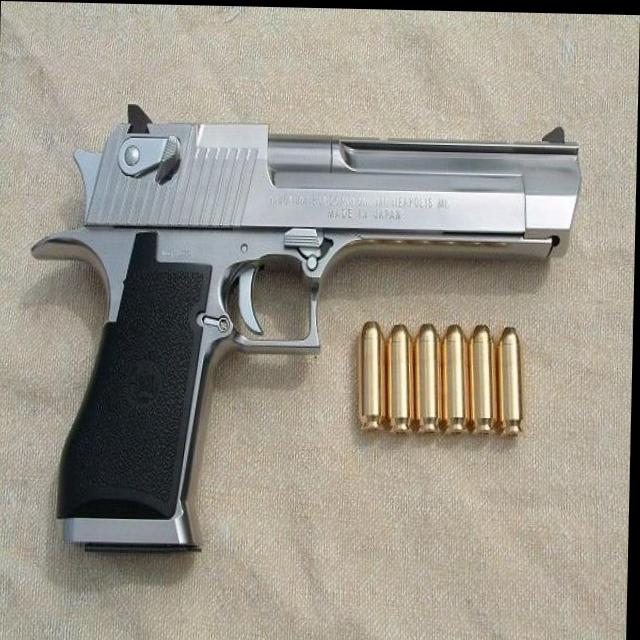handgun: (32, 93, 592, 572)
